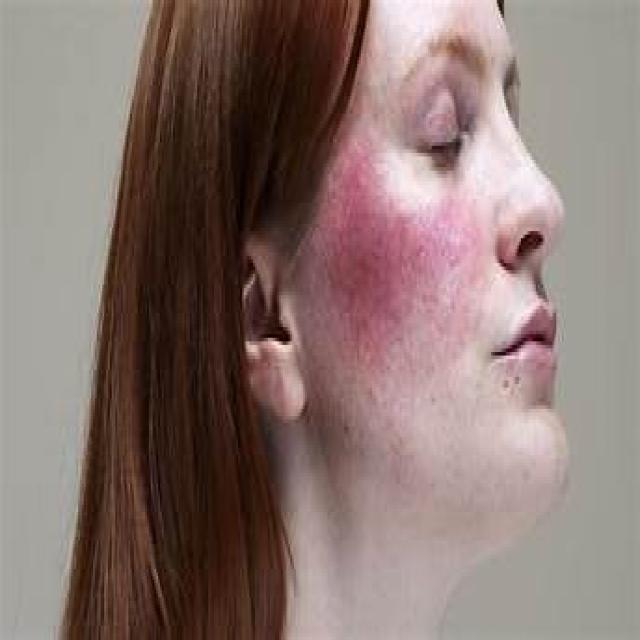Rosacea: (334, 181, 416, 329)
